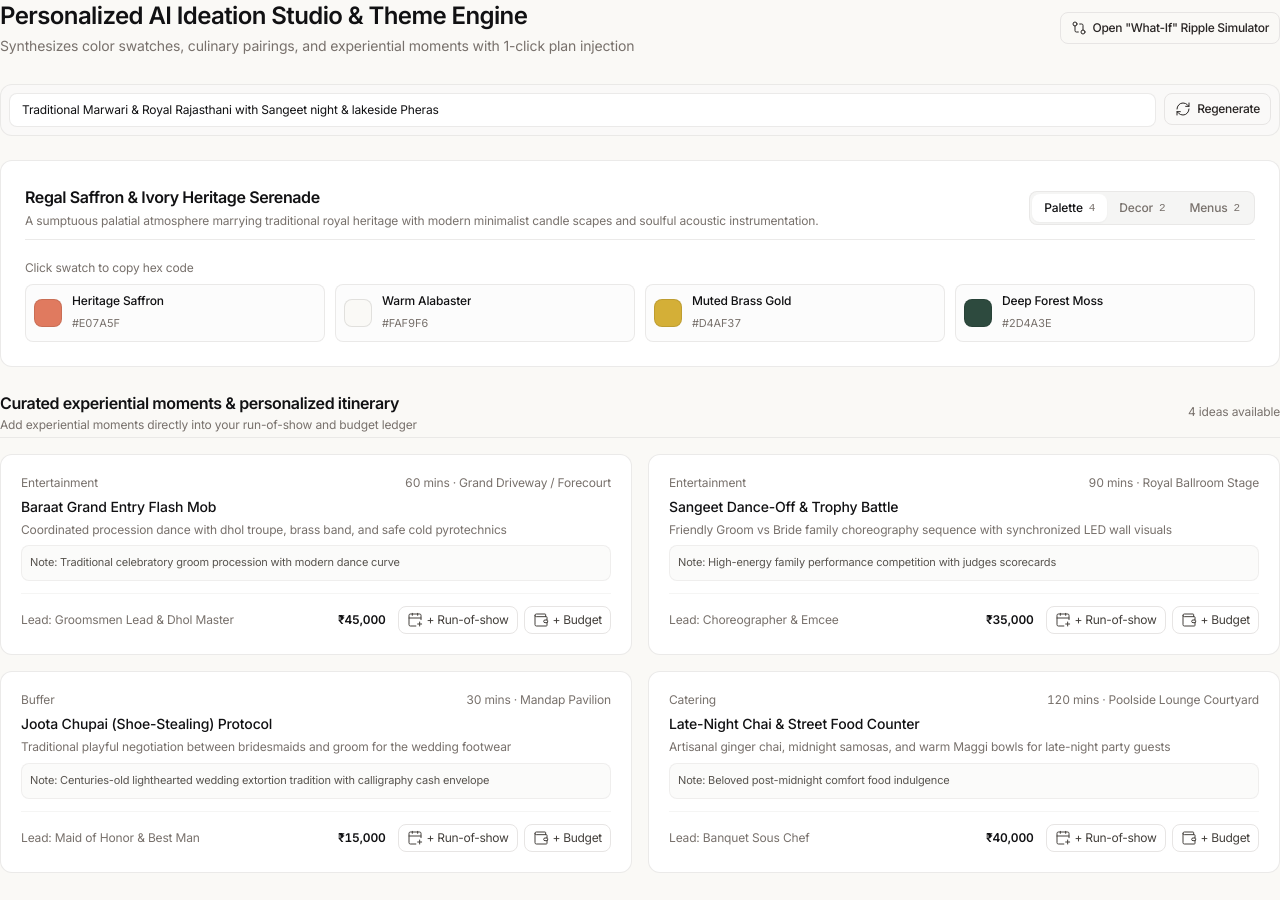
Test: IdeationTab & ThemeConceptCard Progressive Disclosure › allows injecting decor concept into budget and timeline
Click the button "Decor 2" at (1142, 208), box [1107, 194, 1178, 222]
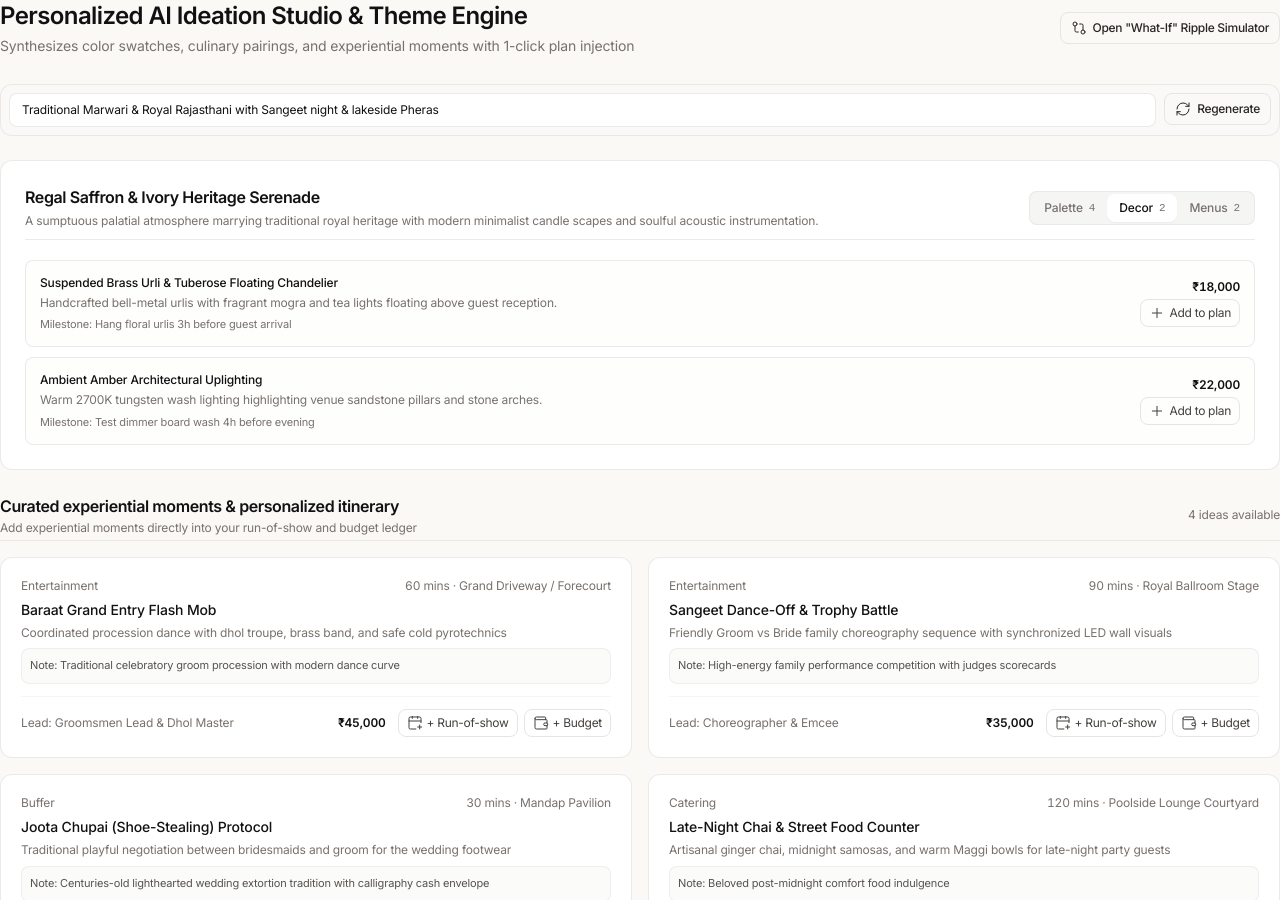
Check: the button "Add to plan" below "₹18,000" is shown
Click the button "Add to plan" below "₹18,000" at (1190, 313), box [1140, 299, 1240, 327]
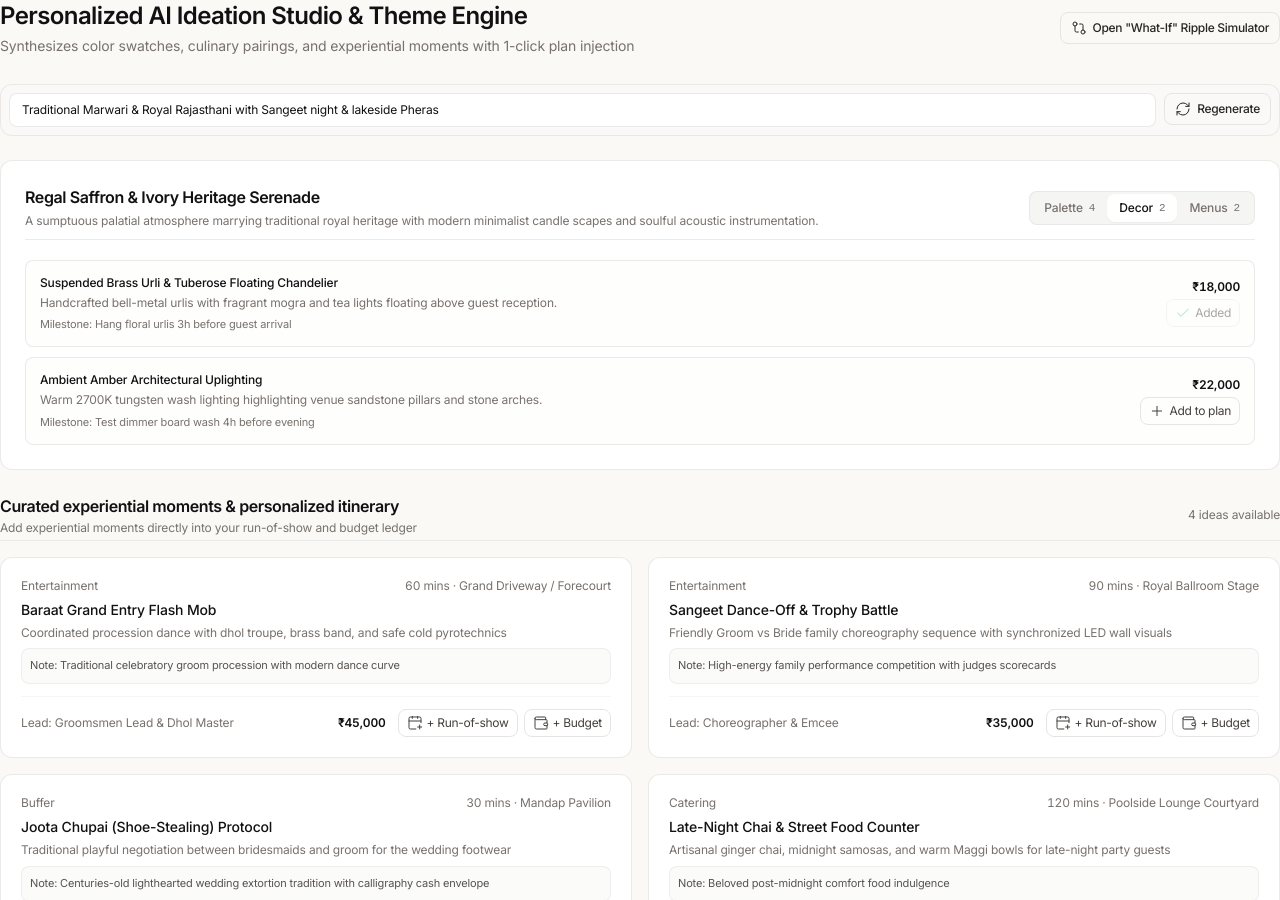
Check: the button "Added" is shown, box [1166, 299, 1240, 327]
